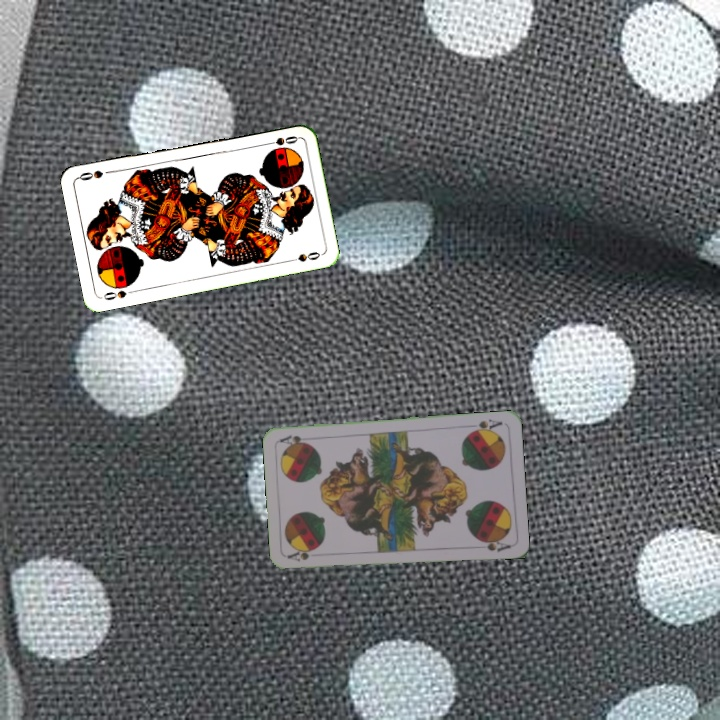SA: (465, 415, 504, 436), (284, 547, 315, 564)
SO: (98, 286, 138, 303), (260, 132, 300, 148)
